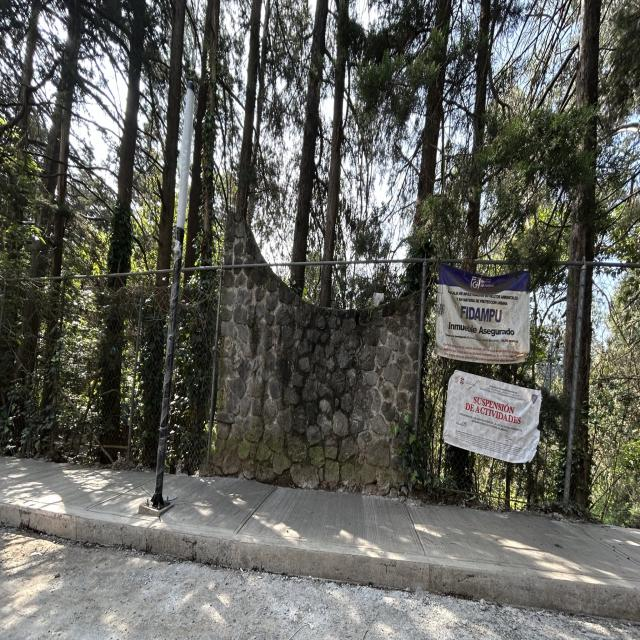stamps: (435, 264, 530, 364)
